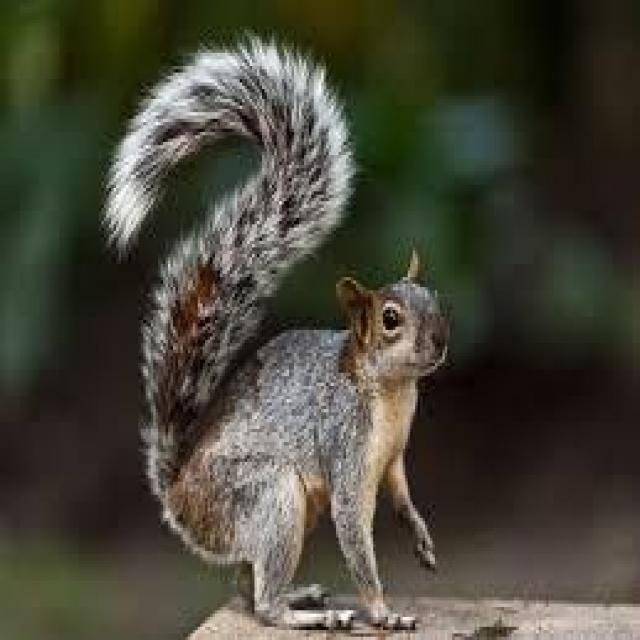license-plate: (99, 31, 446, 638)
